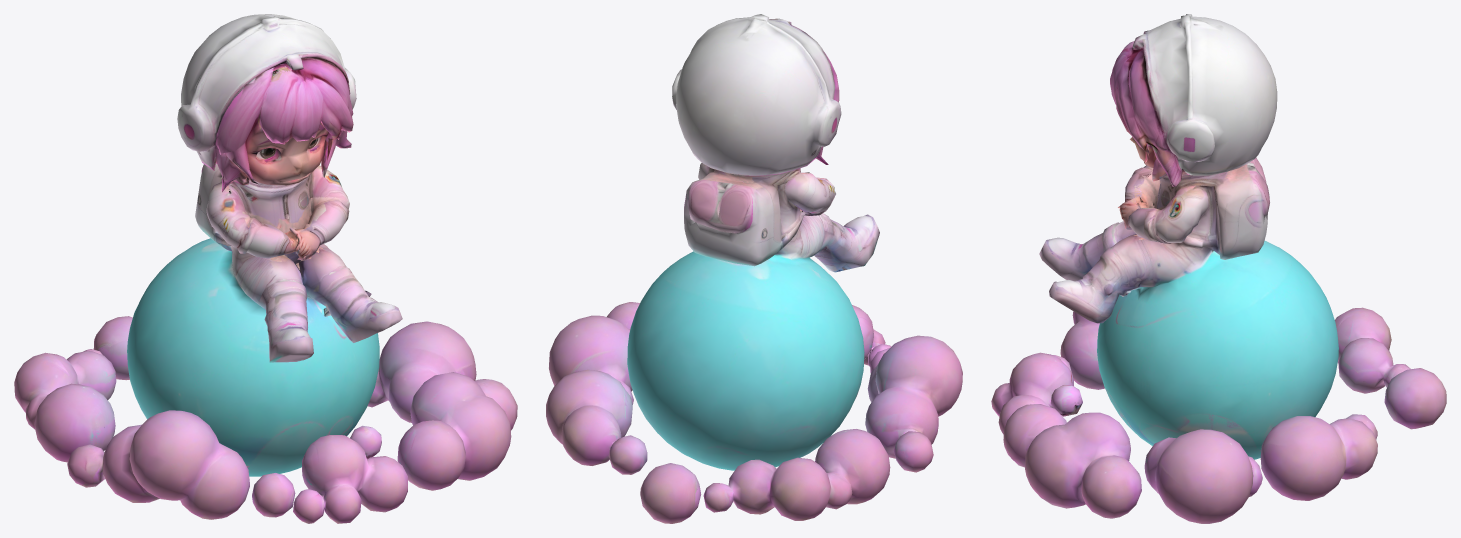
The model's file is anime.glb.
3 renders of one model, left to right at view 1: azimuth 30°, elevation 25°; view 2: azimuth 150°, elevation 25°; view 3: azimuth 270°, elevation 25°, orthographic. The views are drawn at different scales.
Bounding box in the file's own units: 1.81 × 1.99 × 1.88.
Materials: 1 (1 with a texture image).
